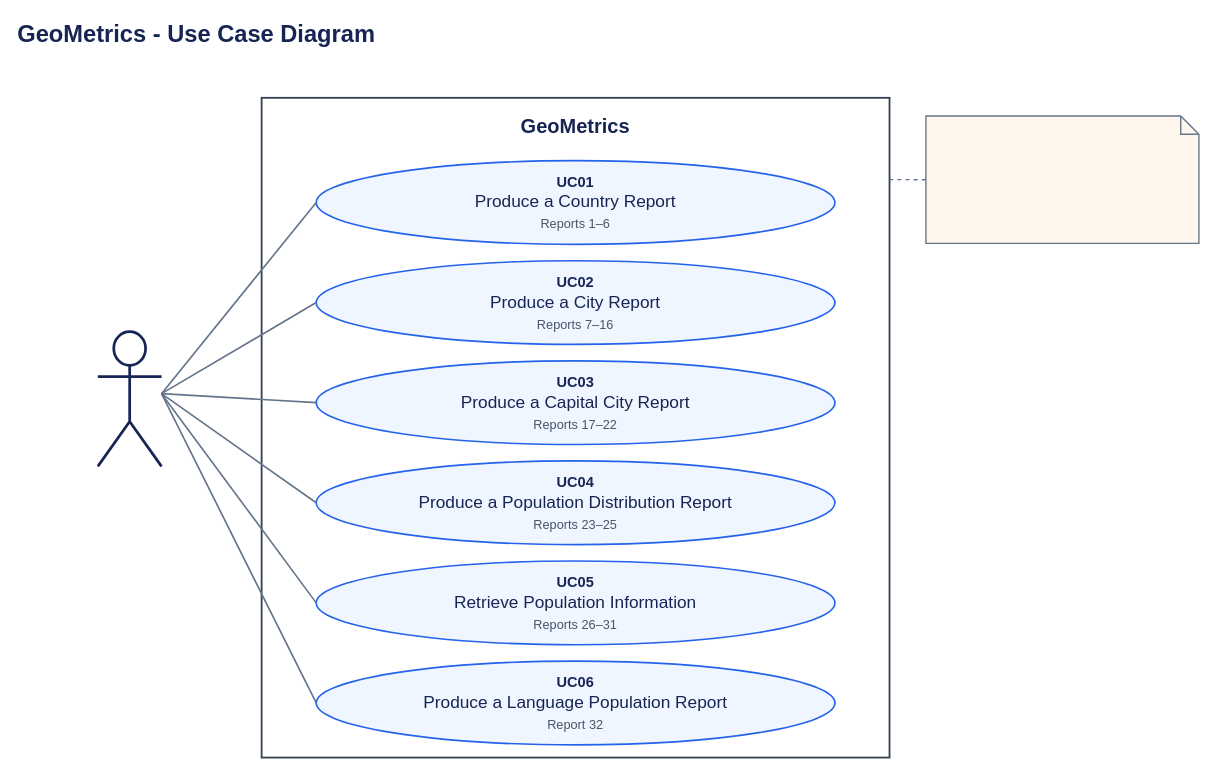
The diagram is 1215 pixels wide and 774 high, and some of its shapes have lost their labels. The centre of each missing label's shape, as x and y in pixels:
Analyst: the point at 129,398
GeoMetrics uses an integrated MySQL database.: the point at 1062,179
